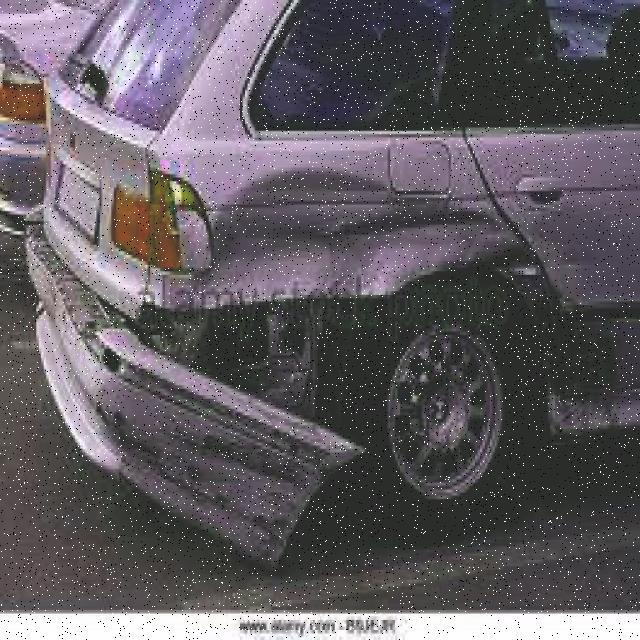car damage: (22, 170, 628, 572)
